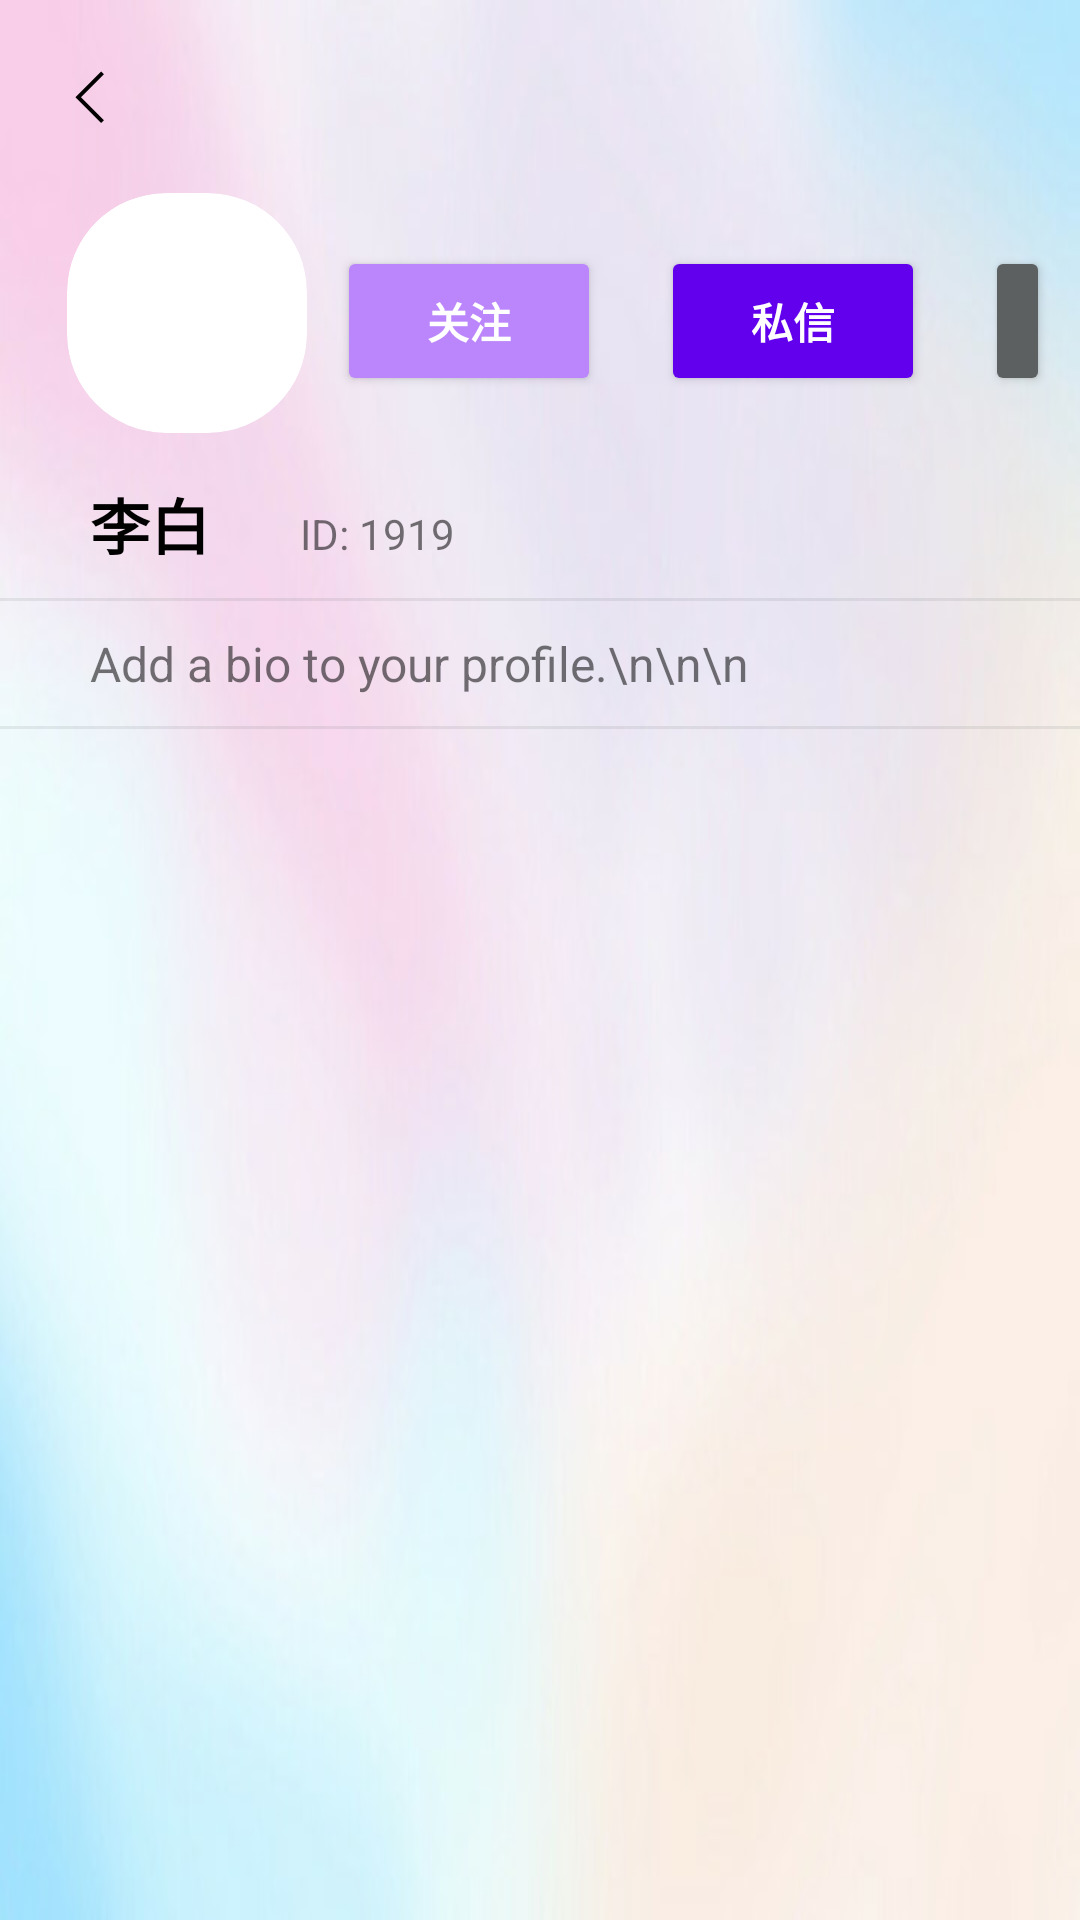

Locate icon controls on the screen. Image size 1080px×1920px, boxes as (x1, y1, x2, y2).
return: (75, 71, 104, 123)
